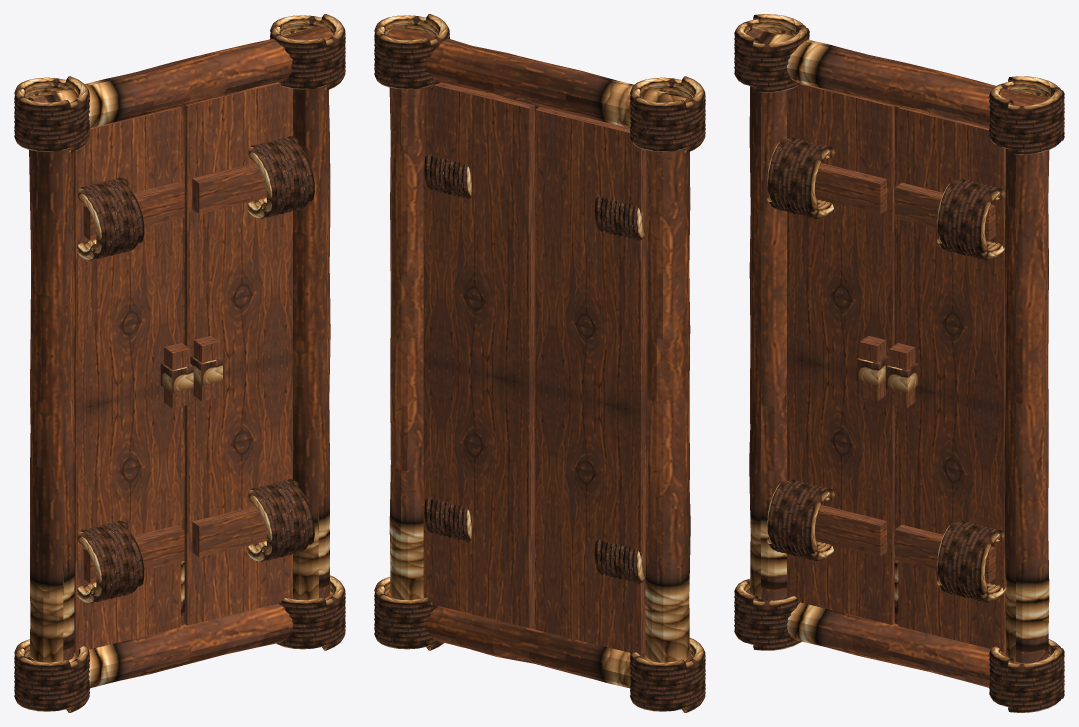
The model's file is Haus_Tuer.glb.
3 views of the same model, side by side, from view 1: azimuth 30°, elevation 25°; view 2: azimuth 150°, elevation 25°; view 3: azimuth 330°, elevation 25° (orthographic).
Parts seen in each view (by area): view 1: tuer; view 2: tuer; view 3: tuer.
Boxes of the visible parts, x1,y1,x2,y2 form: tuer: (14,14,345,712); tuer: (374,14,705,712); tuer: (734,14,1064,712).
Size of the model in its own units: 1.09 by 1.99 by 0.2739.
4 materials, 4 textured.
